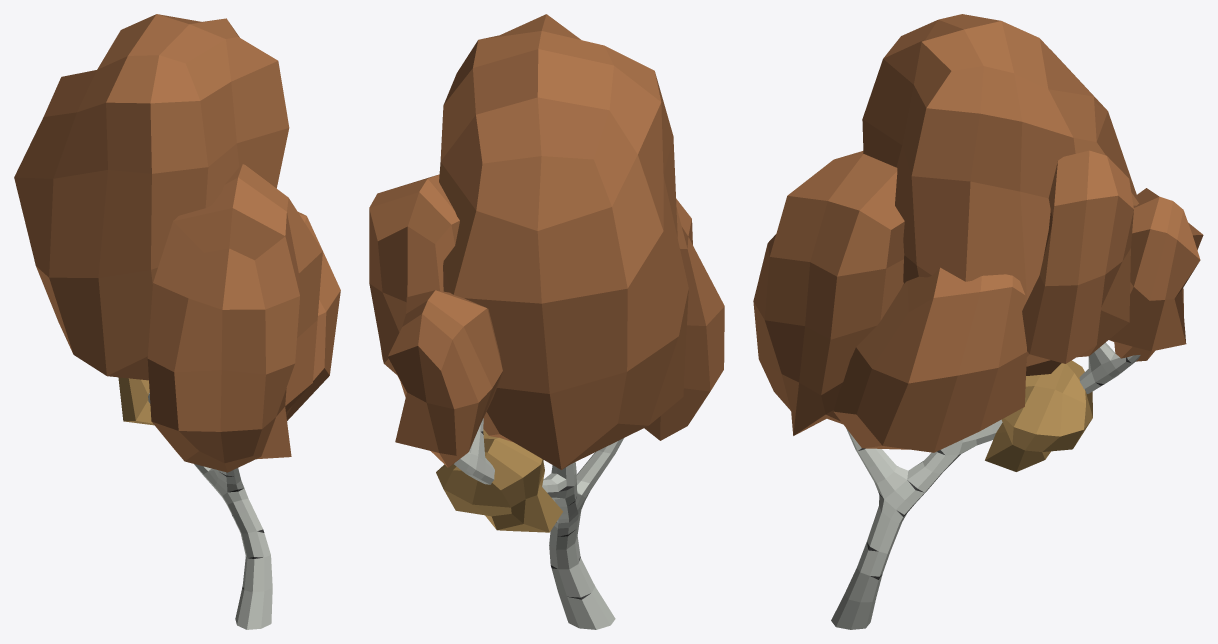
The model's file is birch_autumn1.glb.
3 renders of one model, left to right at view 1: azimuth 30°, elevation 25°; view 2: azimuth 150°, elevation 25°; view 3: azimuth 270°, elevation 25°, orthographic. The views are drawn at different scales.
Visible parts, largest first — view 1: BirchTree_Autumn_1; view 2: BirchTree_Autumn_1; view 3: BirchTree_Autumn_1.
Part boxes in pixels (x1,y1,x2,y2): BirchTree_Autumn_1: (14,14,340,629); BirchTree_Autumn_1: (369,14,724,629); BirchTree_Autumn_1: (753,14,1203,629).
Size of the model in its own units: 1.7 by 3.57 by 2.48.
